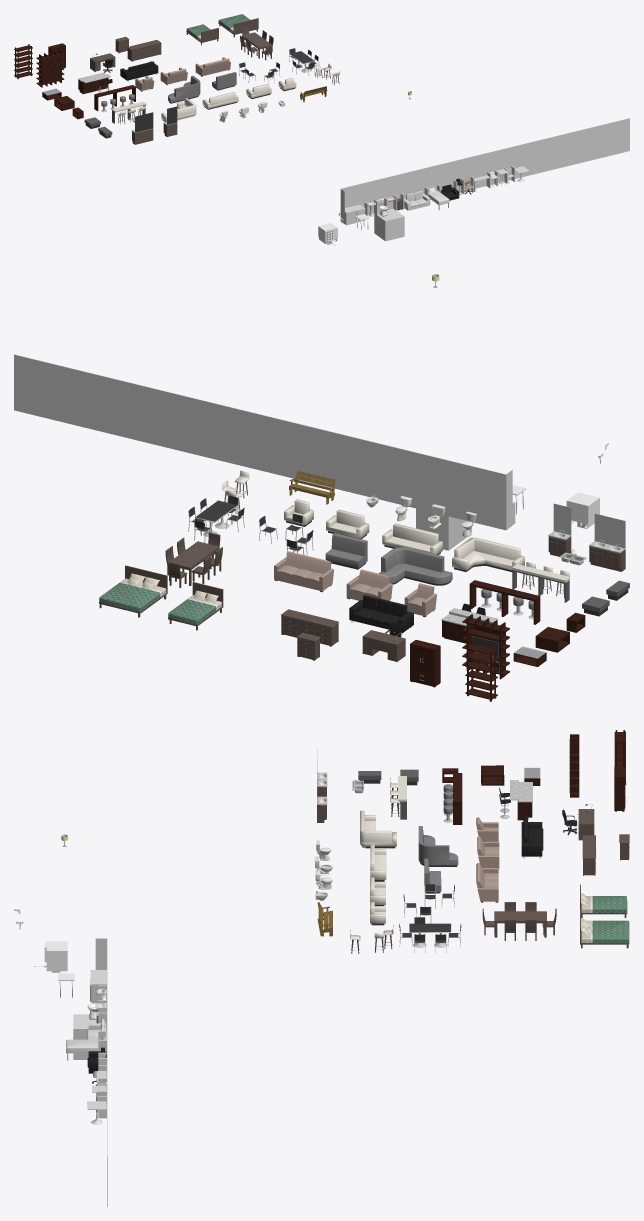
File: props.glb
3 views of the same model, one above another, from view 1: azimuth 30°, elevation 25°; view 2: azimuth 150°, elevation 25°; view 3: azimuth 270°, elevation 25° (orthographic). The views are drawn at different scales.
Parts seen in each view (by area): view 1: Object_9, Wall-noimp, MeasureCube-noimp, SofaTwoSeater, ACUnit-noimp; view 2: Object_9, Wall-noimp, MeasureCube-noimp, ACUnit-noimp; view 3: Object_9, ACUnit-noimp, Wall-noimp.
Boxes of the visible parts, x1,y1,x2,y2 form: Object_9: [14, 14, 340, 144]; Wall-noimp: [340, 118, 629, 223]; MeasureCube-noimp: [374, 208, 404, 241]; SofaTwoSeater: [404, 190, 430, 210]; ACUnit-noimp: [318, 223, 337, 244]; Object_9: [99, 470, 629, 701]; Wall-noimp: [14, 354, 512, 530]; MeasureCube-noimp: [416, 508, 467, 550]; ACUnit-noimp: [566, 492, 599, 528]; Object_9: [314, 730, 629, 953]; ACUnit-noimp: [44, 941, 67, 971]; Wall-noimp: [95, 938, 107, 1206].
Size of the model in its own units: 34.88 by 10.86 by 26.85.
Materials: 37 (16 with a texture image).
